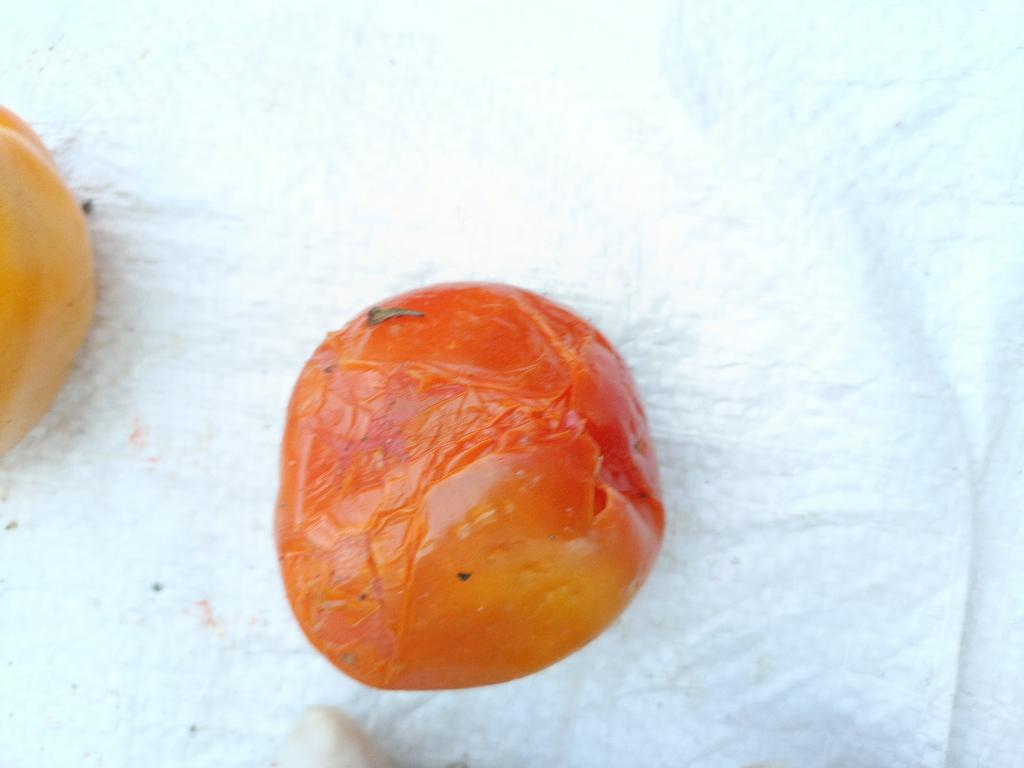surface_damage: (276, 283, 663, 674)
tomato: (276, 283, 663, 689)
